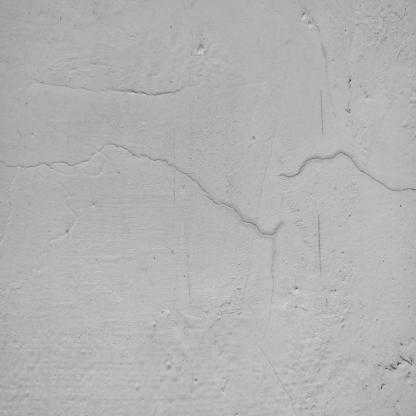crack: (1, 141, 284, 238), (279, 148, 416, 195)
